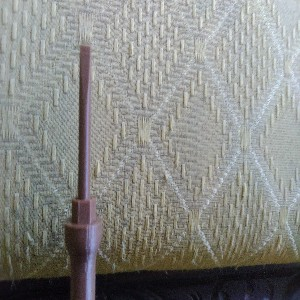obeng: (62, 44, 103, 300)
